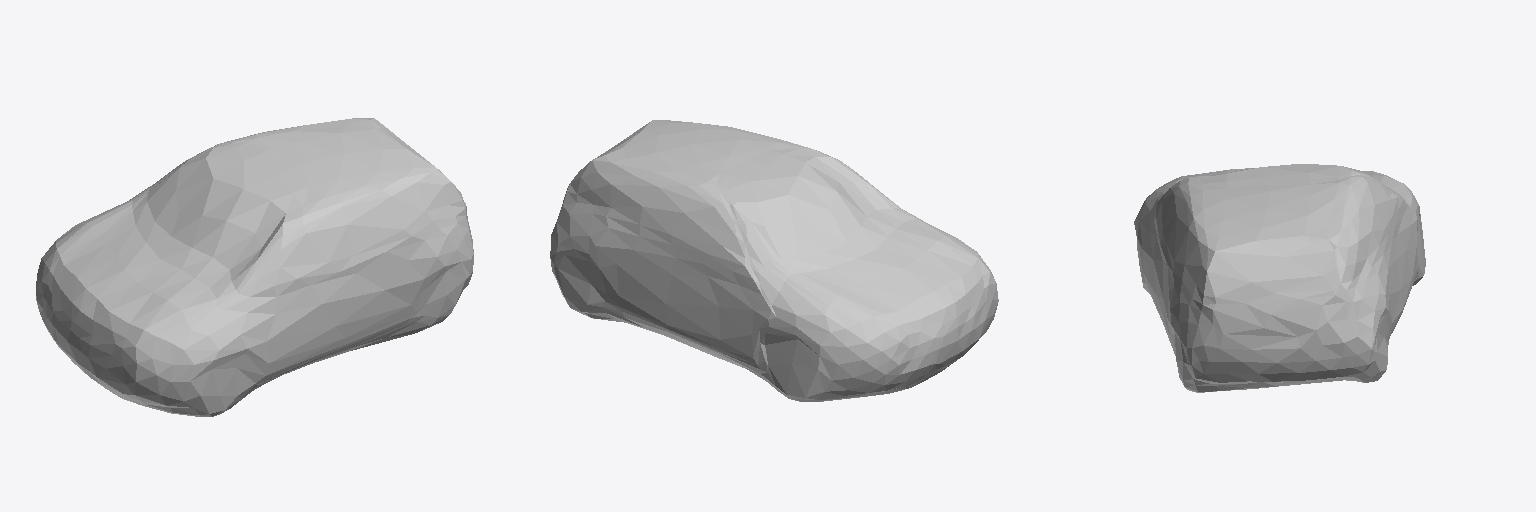
File: video3_10.obj
3 renders of one model, left to right at view 1: azimuth 30°, elevation 25°; view 2: azimuth 150°, elevation 25°; view 3: azimuth 270°, elevation 25°, orthographic.
Bounding box in the file's own units: 1 × 0.4502 × 0.6704.